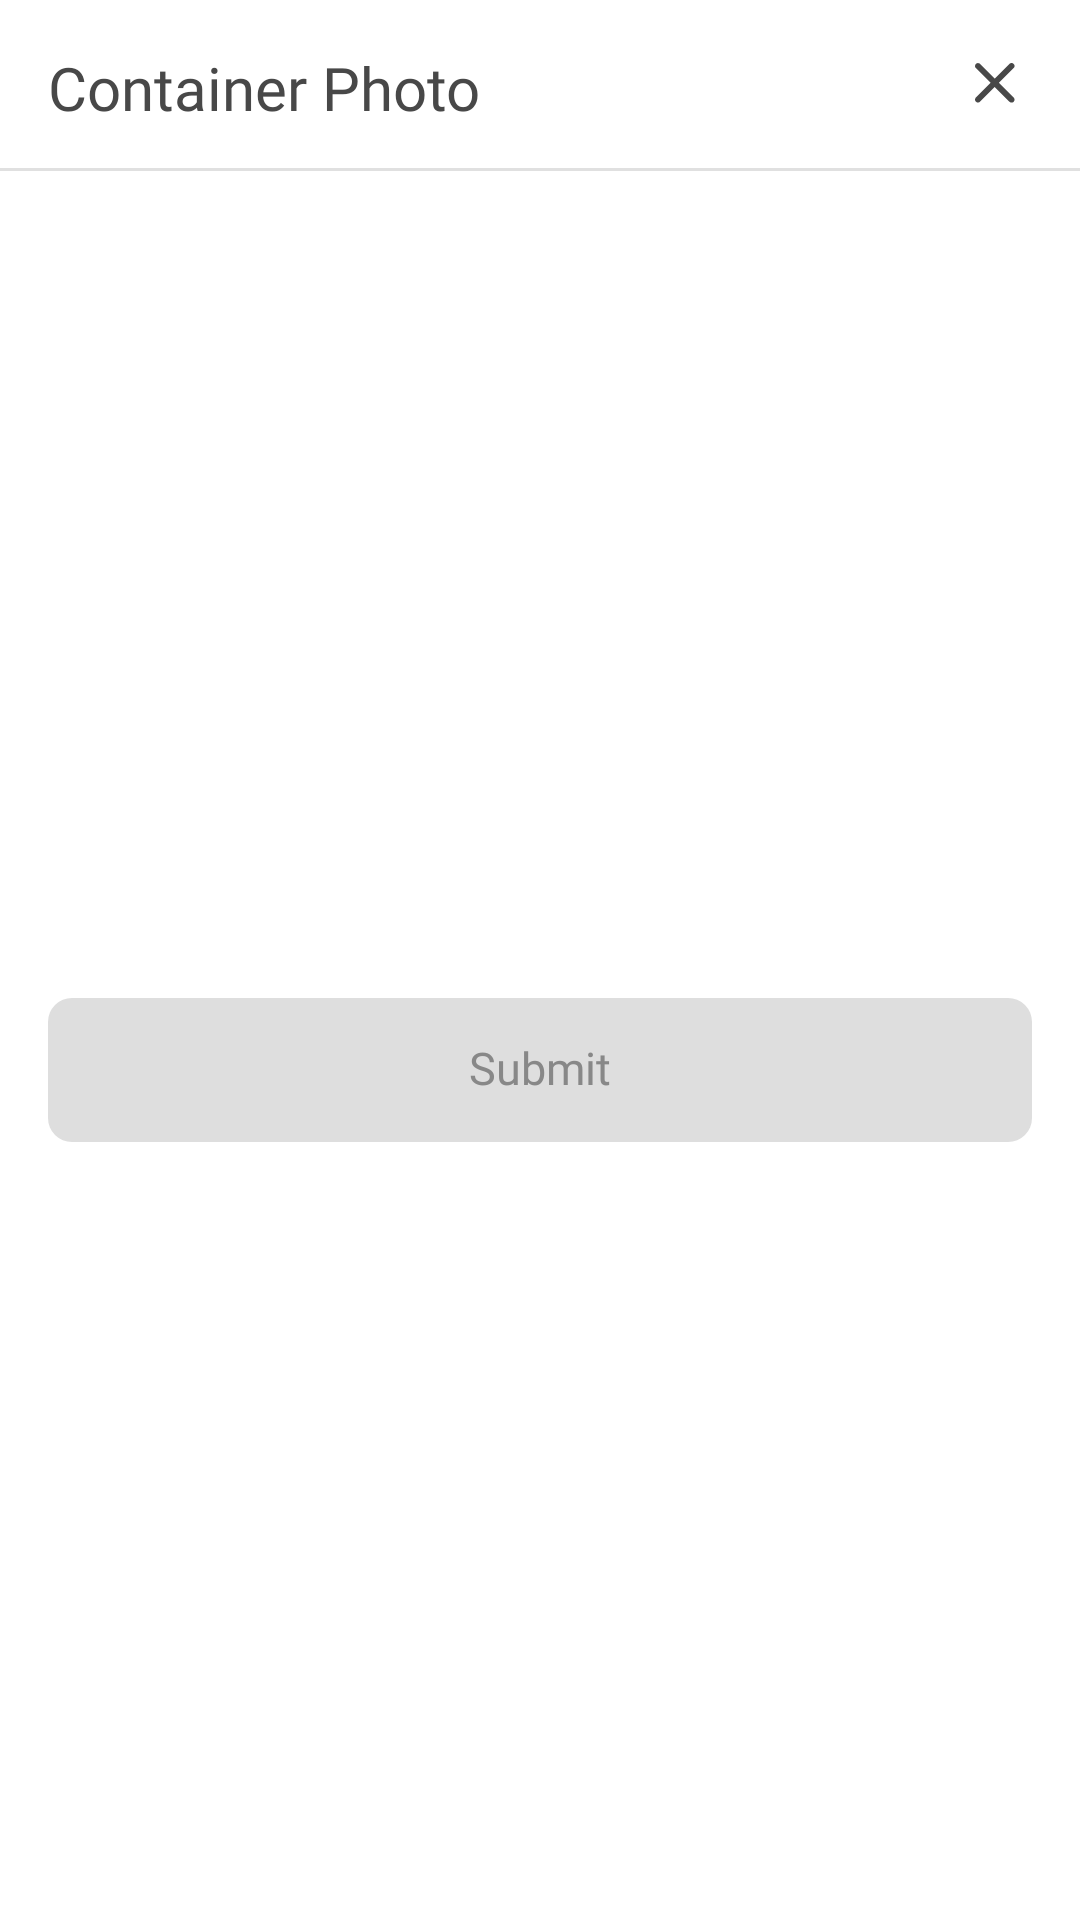

Point at icon controls on the screen. Image size 1080px x 1920px, points as point (x, y).
close: point (995, 83)
